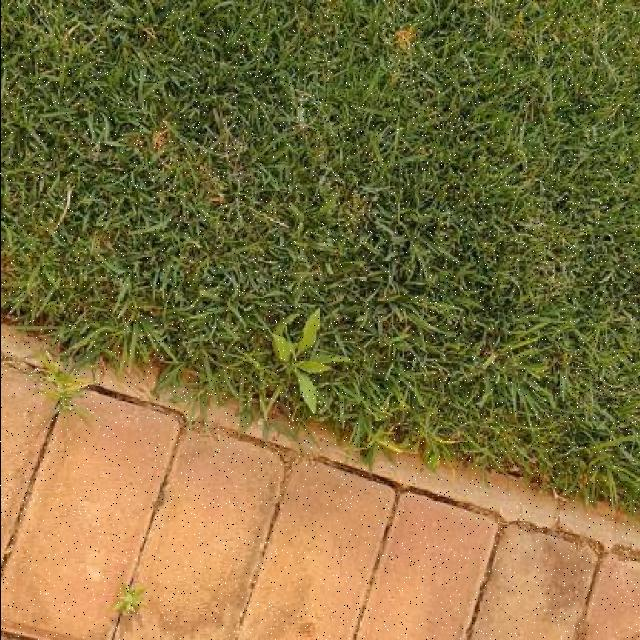weed: (270, 310, 346, 414)
